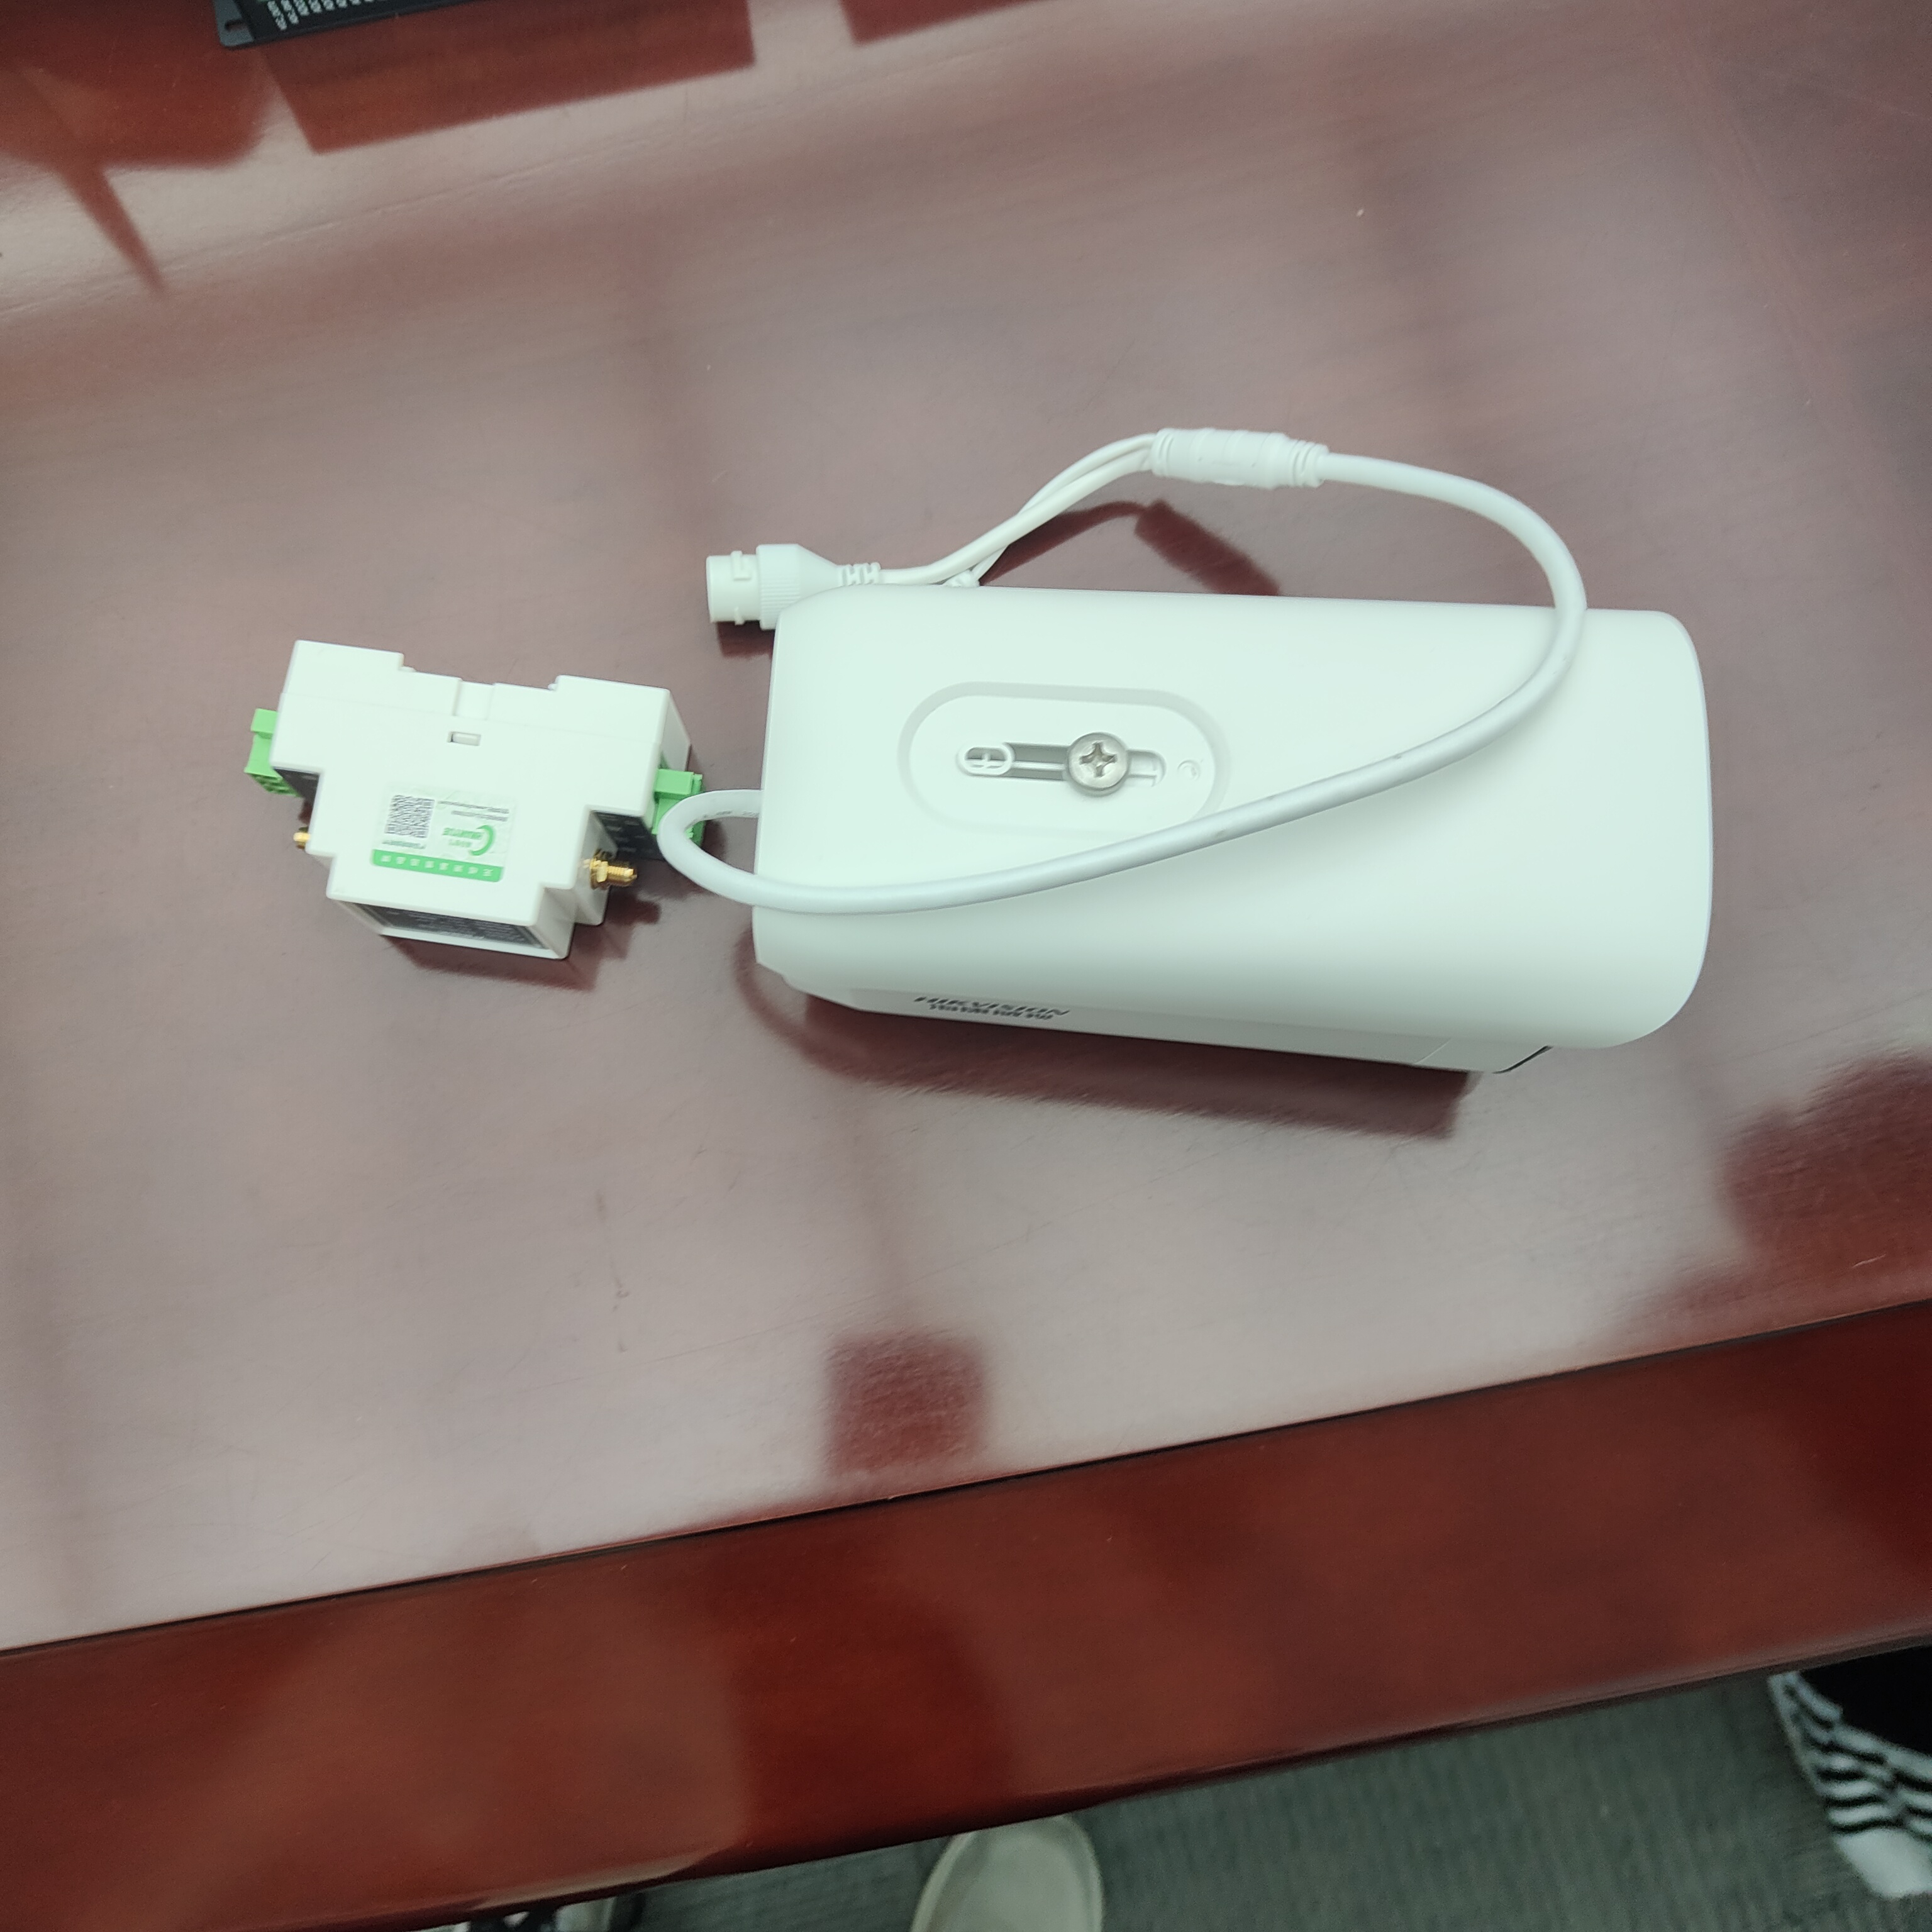dgjs: (225, 614, 704, 971)
hkws: (740, 550, 1743, 1131)
